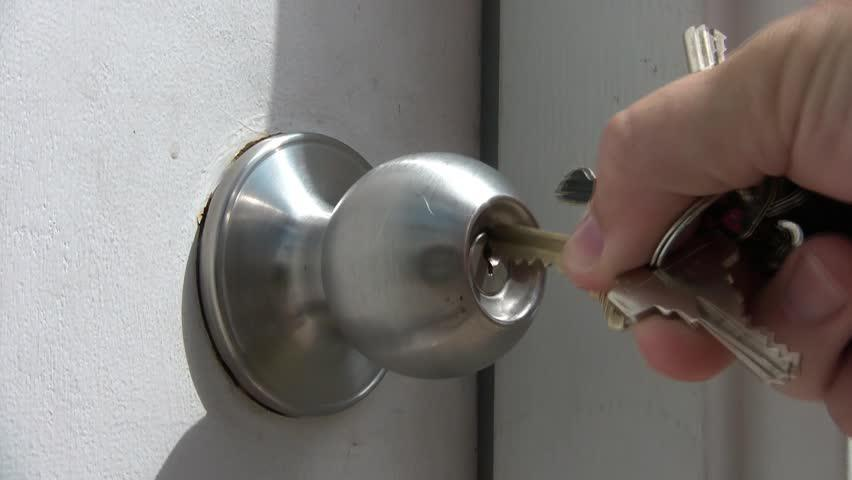doorhandle: (184, 91, 575, 434)
